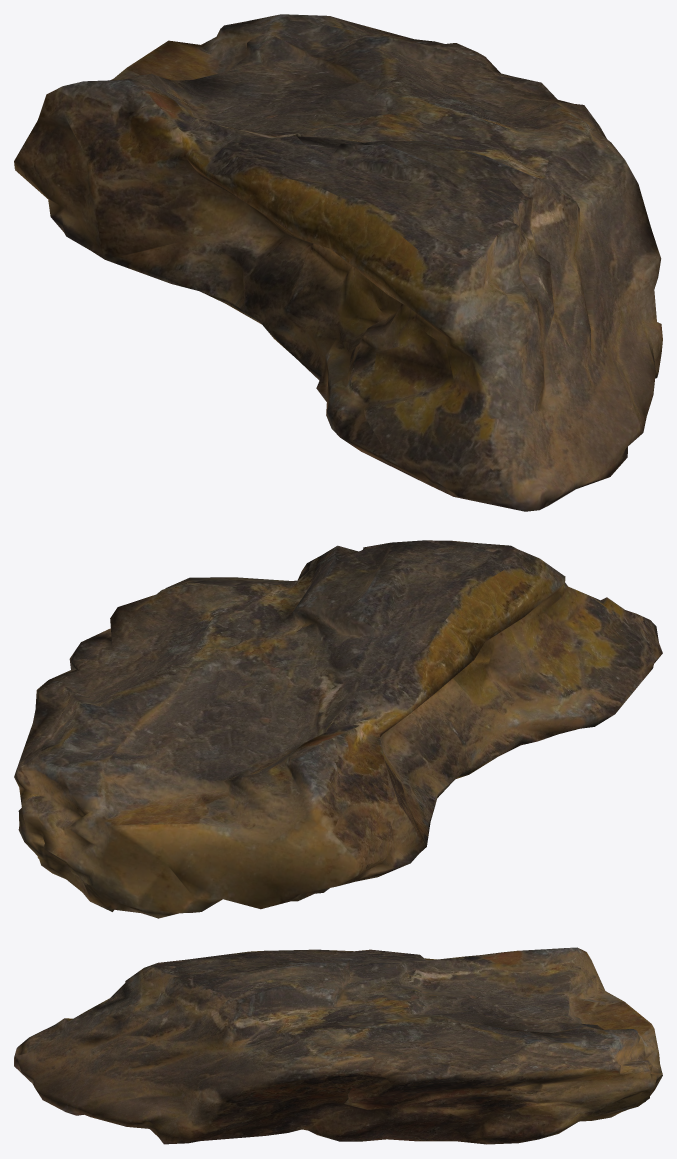
3 views of the same model, one above another, from view 1: azimuth 30°, elevation 25°; view 2: azimuth 150°, elevation 25°; view 3: azimuth 270°, elevation 25° (orthographic). The views are drawn at different scales.
Visible parts, largest first — view 1: rock_09_LOD0; view 2: rock_09_LOD0; view 3: rock_09_LOD0.
Boxes of the visible parts, bbox=[...] form: rock_09_LOD0: bbox=[14, 14, 662, 511]; rock_09_LOD0: bbox=[14, 540, 662, 918]; rock_09_LOD0: bbox=[14, 947, 662, 1144].
Bounding box in the file's own units: 0.0739 × 0.0324 × 0.1446.
1 material, 1 textured.
